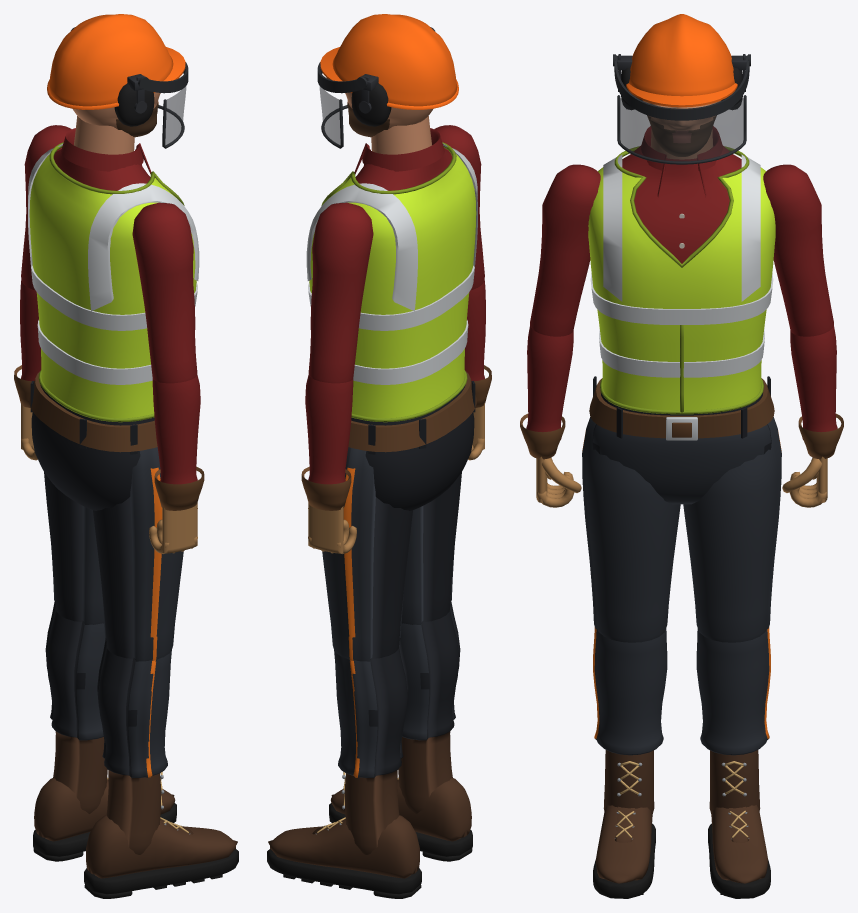
Rendered from faller.glb.
3 views of the same model, side by side, from view 1: azimuth 30°, elevation 25°; view 2: azimuth 150°, elevation 25°; view 3: azimuth 270°, elevation 25° (orthographic).
Parts seen in each view (by area): view 1: chest, thigh_R, shin_R, spine, helmet, pelvis, shin_L, upperarm_R, foot_R, thigh_L, foot_L, forearm_R (+6 smaller); view 2: chest, thigh_L, shin_L, spine, helmet, pelvis, shin_R, upperarm_L, foot_L, thigh_R, foot_R, forearm_L (+6 smaller); view 3: chest, thigh_R, thigh_L, spine, pelvis, shin_L, shin_R, helmet, upperarm_R, upperarm_L, visor, foot_L (+6 smaller).
Boxes of the visible parts, x1=… form: chest: x1=28, y1=128, x2=199, y2=330; thigh_R: x1=93, y1=447, x2=183, y2=661; shin_R: x1=97, y1=639, x2=171, y2=854; spine: x1=36, y1=292, x2=154, y2=422; helmet: x1=47, y1=14, x2=185, y2=126; pelvis: x1=29, y1=371, x2=157, y2=510; shin_L: x1=45, y1=601, x2=107, y2=813; upperarm_R: x1=132, y1=202, x2=197, y2=383; foot_R: x1=84, y1=815, x2=238, y2=898; thigh_L: x1=44, y1=472, x2=104, y2=624; foot_L: x1=33, y1=777, x2=176, y2=861; forearm_R: x1=152, y1=375, x2=200, y2=484; chest: x1=306, y1=128, x2=477, y2=330; thigh_L: x1=322, y1=447, x2=412, y2=661; shin_L: x1=334, y1=639, x2=408, y2=854; spine: x1=351, y1=292, x2=469, y2=422; helmet: x1=320, y1=14, x2=458, y2=126; pelvis: x1=348, y1=371, x2=476, y2=510; shin_R: x1=398, y1=601, x2=460, y2=813; upperarm_L: x1=308, y1=202, x2=373, y2=383; foot_L: x1=267, y1=815, x2=421, y2=898; thigh_R: x1=401, y1=472, x2=461, y2=624; foot_R: x1=329, y1=777, x2=472, y2=861; forearm_L: x1=305, y1=375, x2=353, y2=484; chest: x1=588, y1=126, x2=775, y2=324; thigh_R: x1=582, y1=417, x2=680, y2=642; thigh_L: x1=683, y1=417, x2=781, y2=642; spine: x1=597, y1=309, x2=766, y2=414; pelvis: x1=589, y1=376, x2=774, y2=504; shin_L: x1=696, y1=627, x2=770, y2=815; shin_R: x1=593, y1=627, x2=667, y2=815; helmet: x1=617, y1=14, x2=746, y2=110; upperarm_R: x1=530, y1=164, x2=600, y2=336; upperarm_L: x1=763, y1=164, x2=833, y2=336; visor: x1=613, y1=54, x2=750, y2=164; foot_L: x1=708, y1=805, x2=770, y2=898.
Size of the model in its own units: 0.3546 by 1.84 by 0.642.
